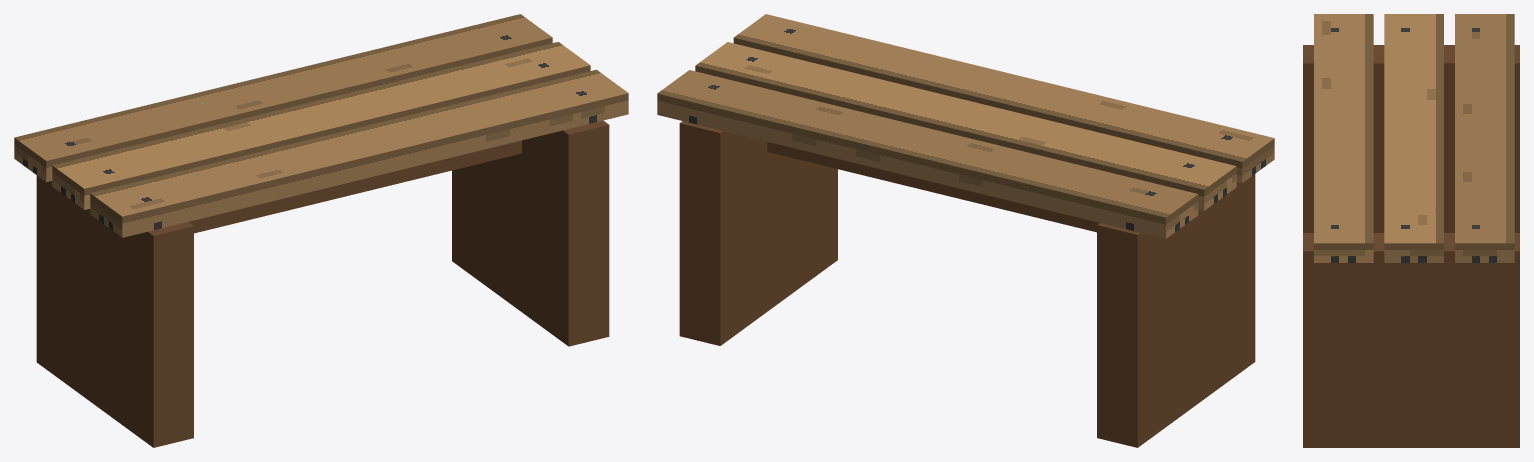
The model's file is f_bench.glb.
The picture shows the model from 3 angles, left to right: view 1: azimuth 30°, elevation 25°; view 2: azimuth 150°, elevation 25°; view 3: azimuth 270°, elevation 25°; orthographic projection. The views are drawn at different scales.
Parts seen in each view (by area): view 1: block_frame-0.45, block_slat0.07, block_frame0.37, block_slat-0.19, block_slat-0.06, block_rail; view 2: block_frame-0.45, block_slat-0.19, block_frame0.37, block_slat-0.06, block_slat0.07, block_rail; view 3: block_frame0.37, block_slat-0.19, block_slat-0.06, block_slat0.07, block_frame-0.45, block_rail.
Boxes of the visible parts, x1,y1,x2,y2 form: block_frame-0.45: (36, 175, 193, 447); block_slat0.07: (90, 69, 628, 237); block_frame0.37: (452, 120, 609, 346); block_slat-0.19: (14, 14, 552, 182); block_slat-0.06: (52, 42, 590, 209); block_rail: (83, 140, 521, 254); block_frame-0.45: (1097, 174, 1255, 447); block_slat-0.19: (657, 70, 1198, 238); block_frame0.37: (679, 121, 837, 345); block_slat-0.06: (695, 42, 1236, 210); block_slat0.07: (733, 14, 1274, 182); block_rail: (767, 142, 1208, 253); block_frame0.37: (1303, 233, 1519, 447); block_slat-0.19: (1455, 14, 1514, 262); block_slat-0.06: (1384, 14, 1443, 262); block_slat0.07: (1314, 14, 1373, 262); block_frame-0.45: (1303, 45, 1519, 232); block_rail: (1389, 271, 1433, 300).
Bounding box in the file's own units: 1 × 0.44 × 0.4.
1 material, 1 textured.
